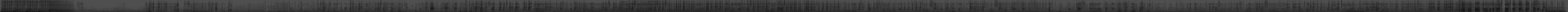Moan: (1518, 0, 1524, 12), (1475, 0, 1480, 12), (528, 0, 532, 12), (1505, 0, 1509, 12), (475, 0, 478, 12), (480, 0, 483, 12), (1437, 0, 1440, 12)
